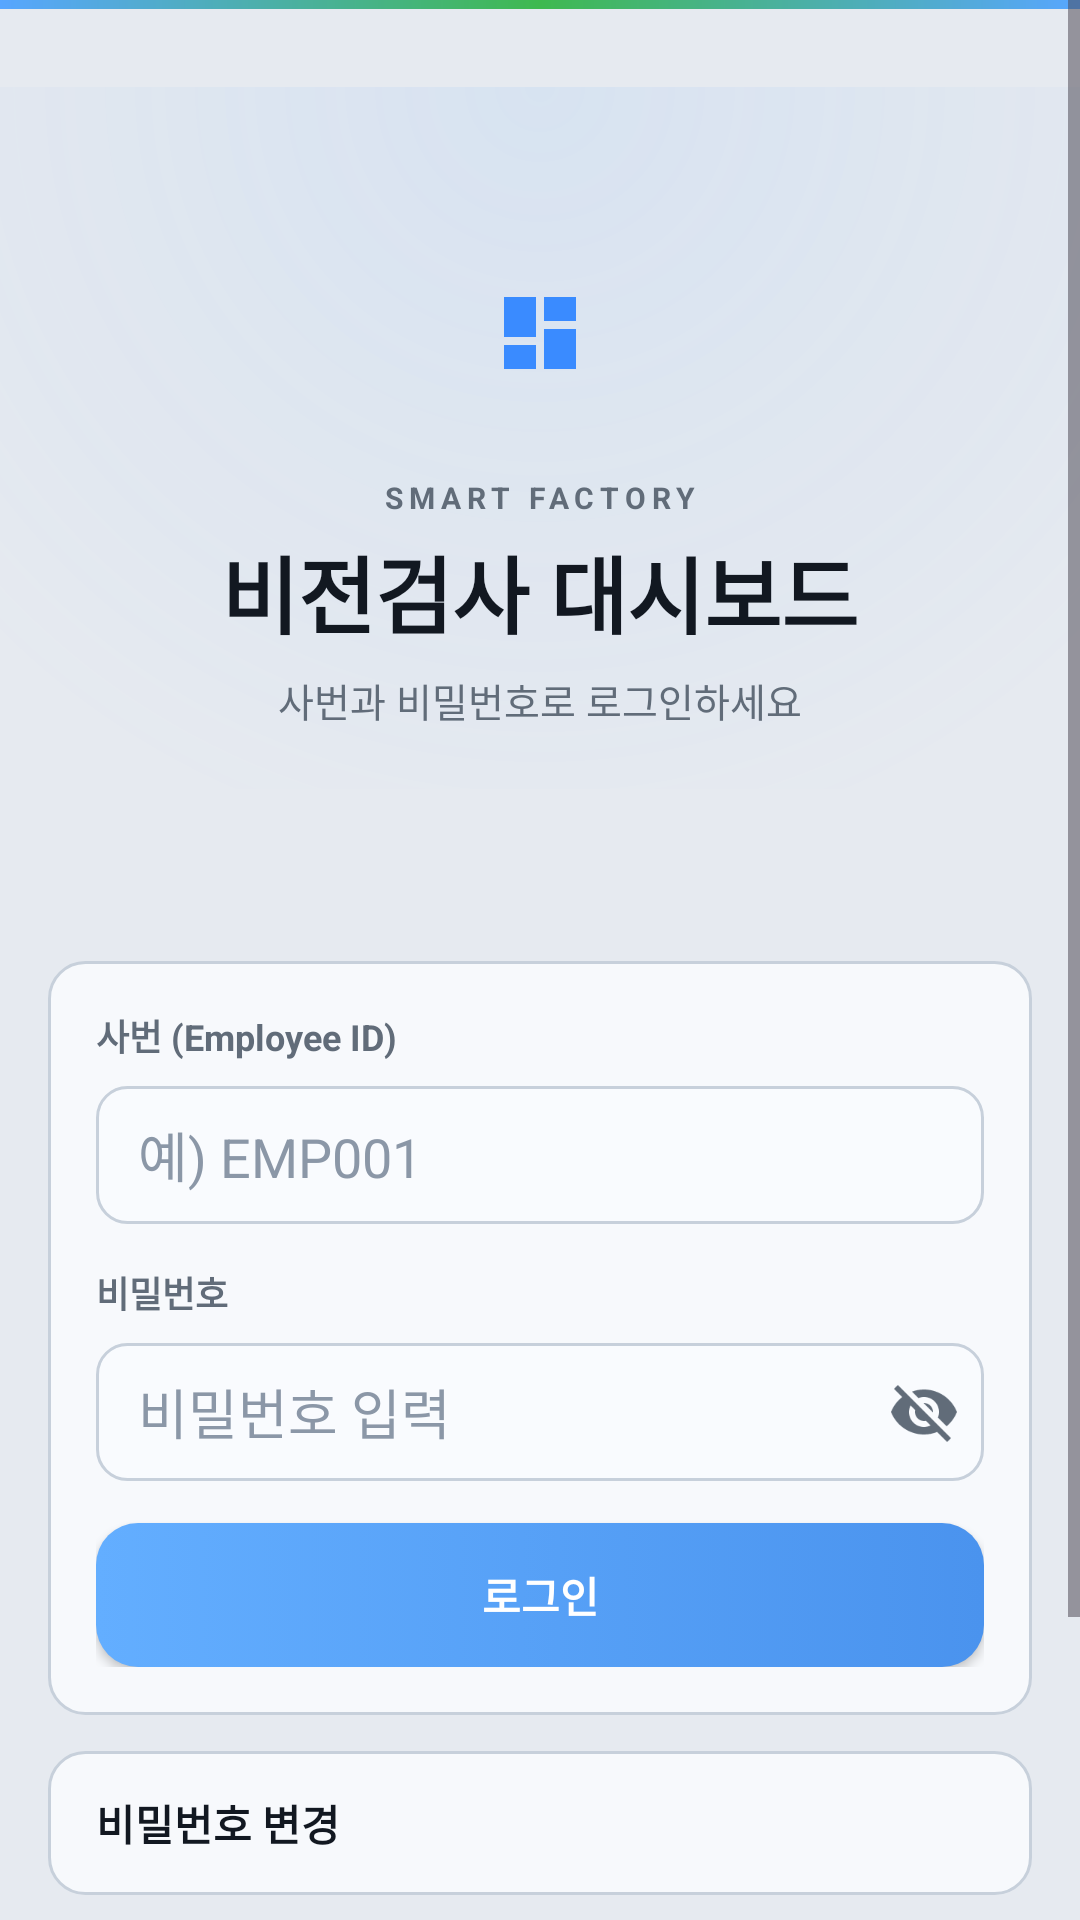

Icons on this 1080w x 1920h Android screen, each with the point to tap as (x,y):
dashboard: (540,333)
비밀번호 표시 전환: (924,1413)
